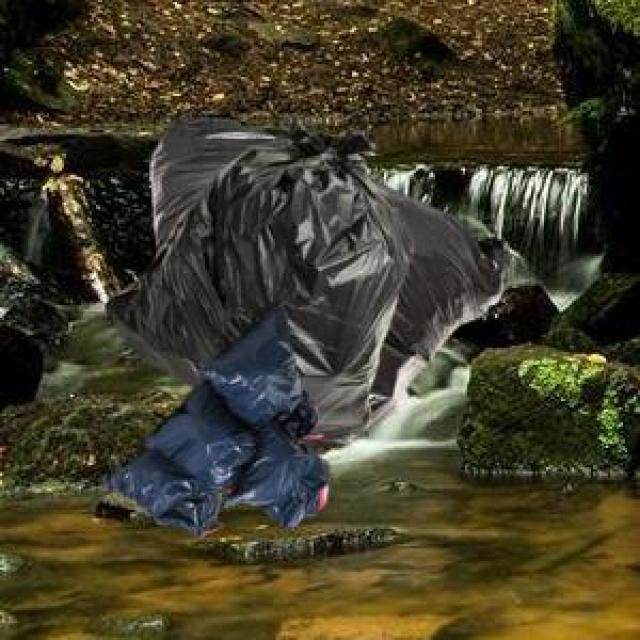waste: (108, 119, 501, 532)
